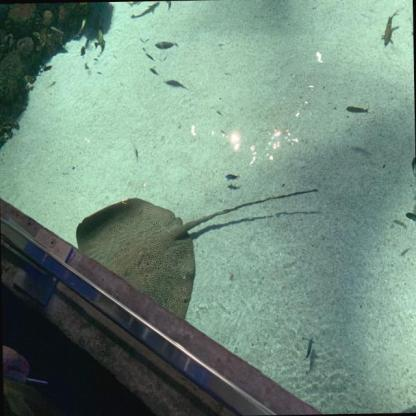fish: (382, 9, 400, 46), (131, 1, 161, 19), (302, 336, 316, 363), (74, 15, 87, 39), (162, 78, 188, 90), (93, 25, 106, 48), (346, 104, 370, 115), (154, 40, 179, 49), (50, 26, 66, 40), (126, 1, 152, 9), (404, 212, 416, 224), (131, 144, 139, 161), (224, 172, 240, 180), (149, 67, 160, 77), (144, 51, 154, 61), (80, 45, 86, 59), (39, 66, 53, 72), (412, 157, 416, 176), (215, 110, 222, 116)
stingray: (75, 196, 197, 324)
